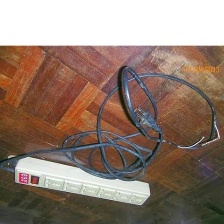three_eye_plug: (8, 153, 156, 209)
